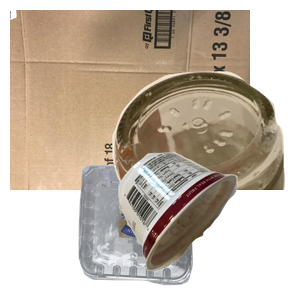cardboard: (10, 10, 250, 190)
glass: (89, 69, 300, 249)
plastic: (76, 162, 264, 300)
trash: (116, 149, 300, 300)
